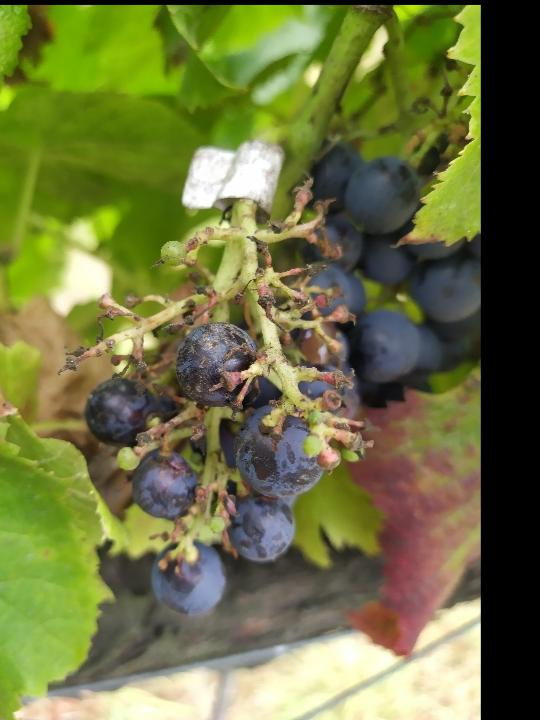grape: (54, 172, 384, 620)
